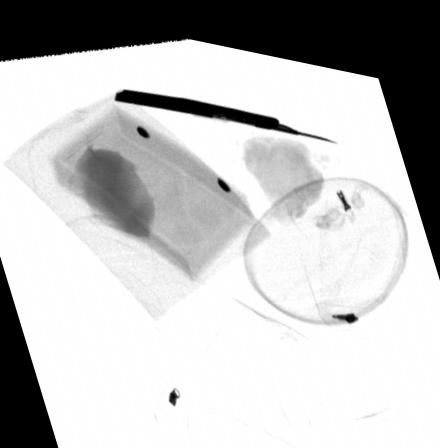Knife: (113, 83, 340, 131)
